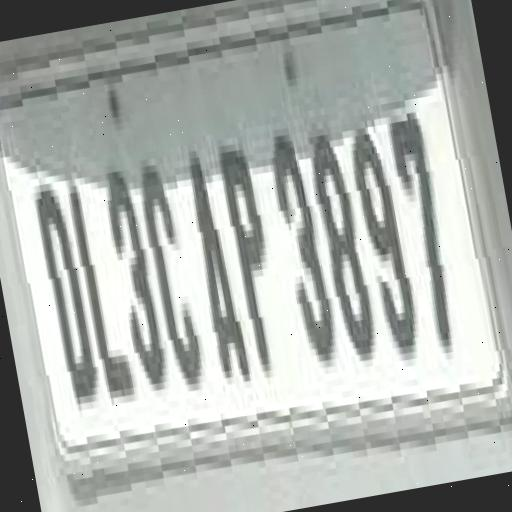number plate: (0, 0, 509, 491)
